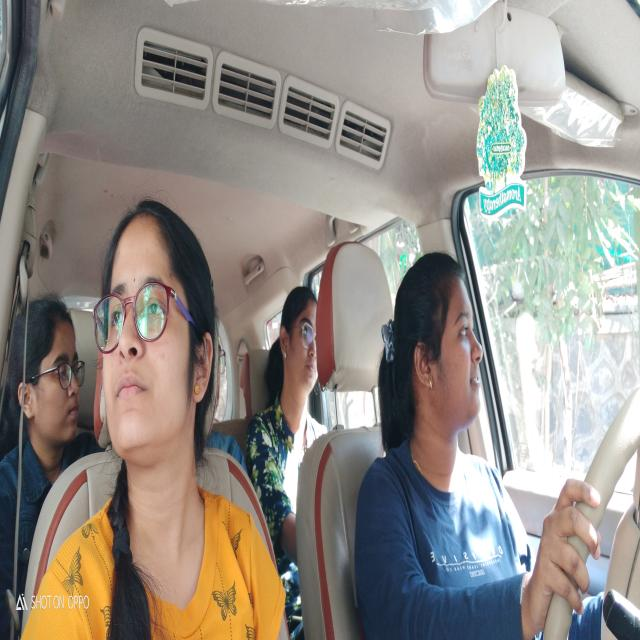LeftRight: (389, 243, 487, 445)
person: (97, 196, 216, 455), (8, 292, 85, 458), (279, 284, 320, 406)
